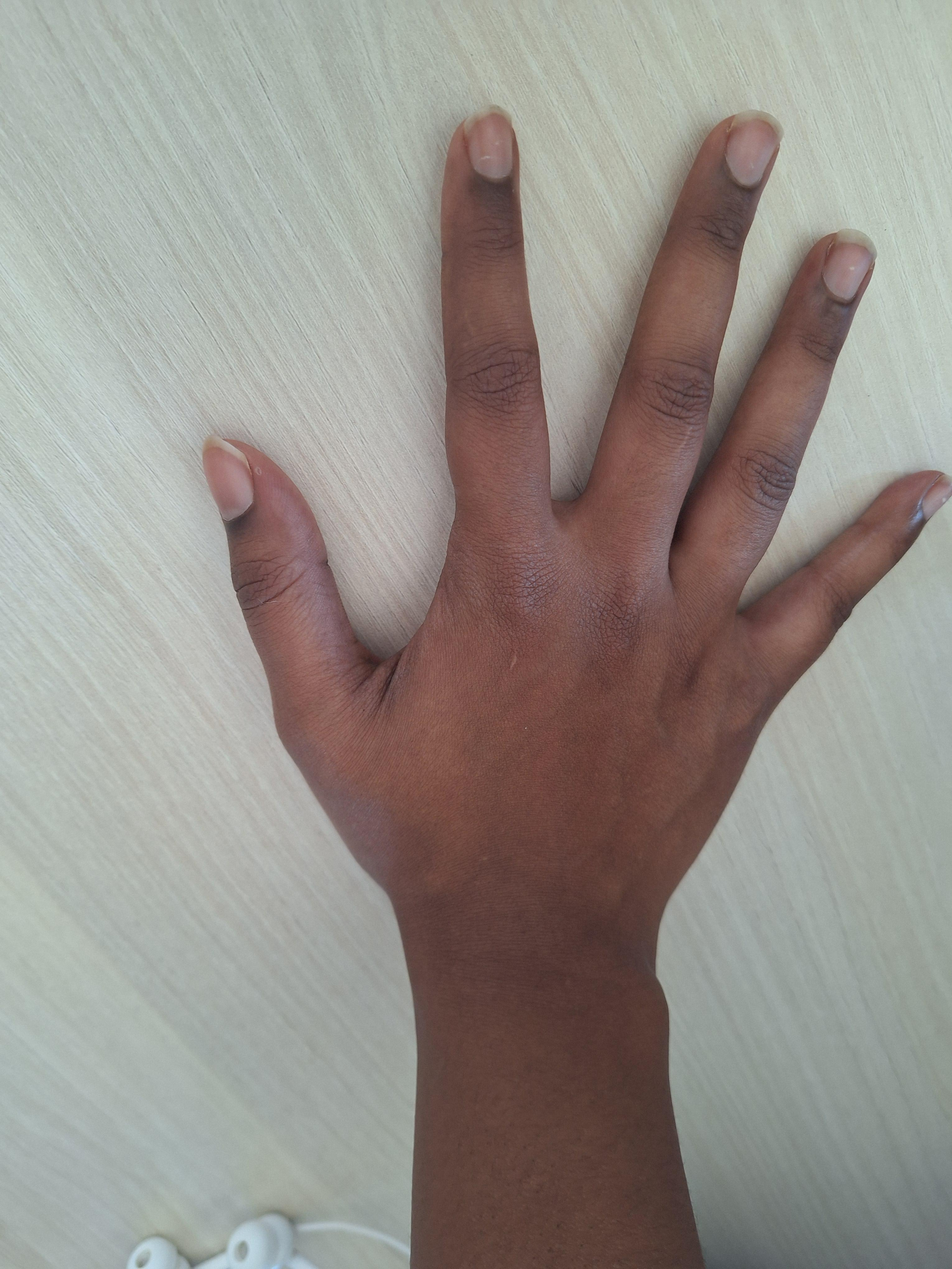Fingernail: (726, 110, 785, 186), (202, 435, 254, 521), (823, 229, 878, 300), (464, 104, 513, 179), (922, 474, 951, 519)
